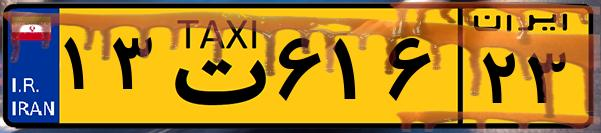1: (330, 28, 385, 110), (57, 26, 110, 100)
2: (475, 38, 525, 113)
3: (525, 38, 570, 115), (110, 28, 158, 98)
6: (270, 28, 330, 110), (385, 28, 445, 110)
ت: (158, 12, 270, 120)
